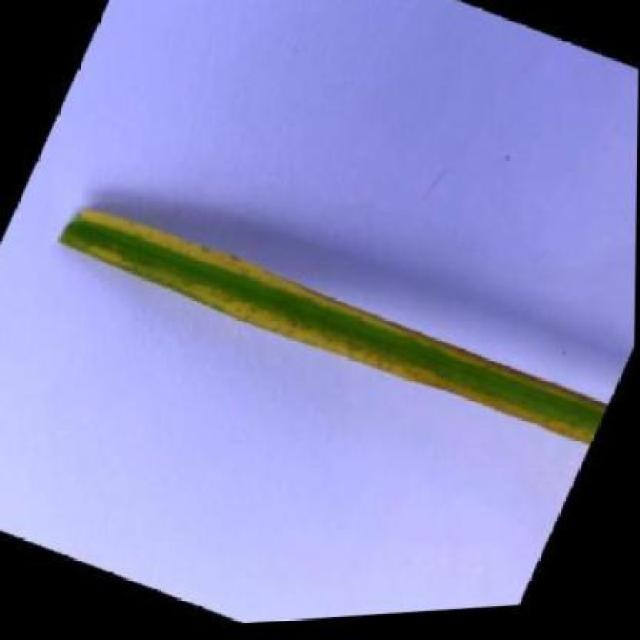Rice False Smut: (51, 172, 612, 490)
